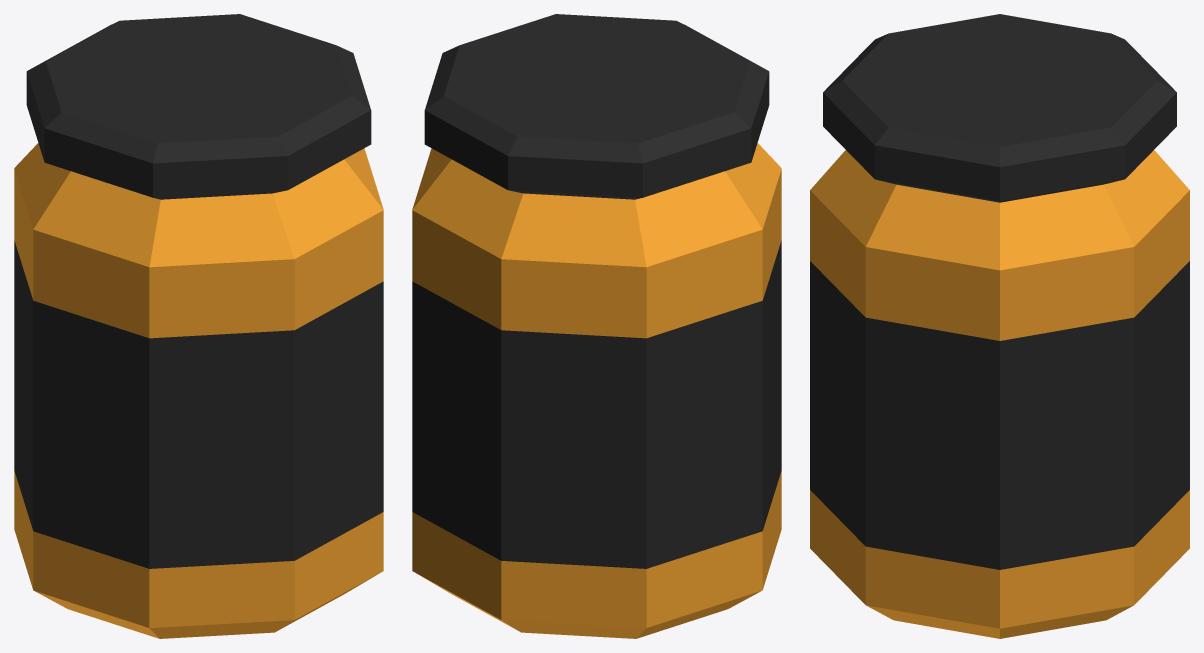
The model's file is honey.glb.
3 renders of one model, left to right at view 1: azimuth 30°, elevation 25°; view 2: azimuth 150°, elevation 25°; view 3: azimuth 270°, elevation 25°, orthographic.
Visible parts, largest first — view 1: honey; view 2: honey; view 3: honey.
Part boxes in pixels (x1,y1,x2,y2): honey: (14, 14, 383, 638); honey: (412, 14, 781, 638); honey: (810, 14, 1189, 638).
Size of the model in its own units: 0.139 by 0.1998 by 0.139.
1 material, 1 textured.
